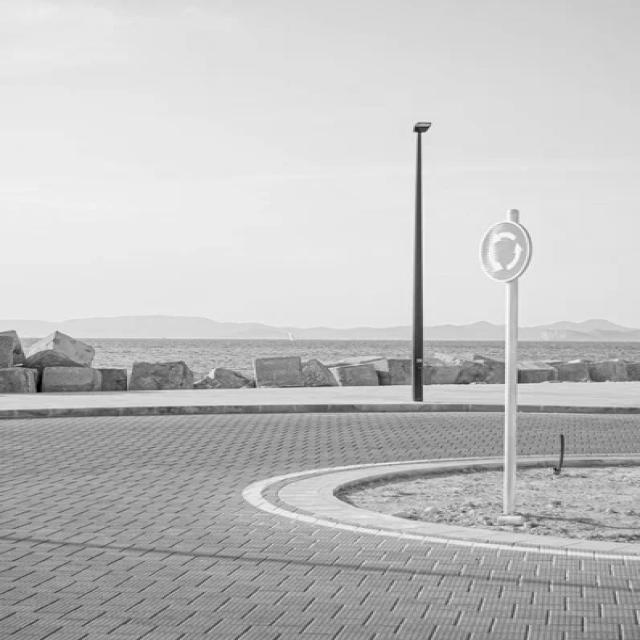Pole: (470, 202, 556, 526), (412, 121, 431, 402)
